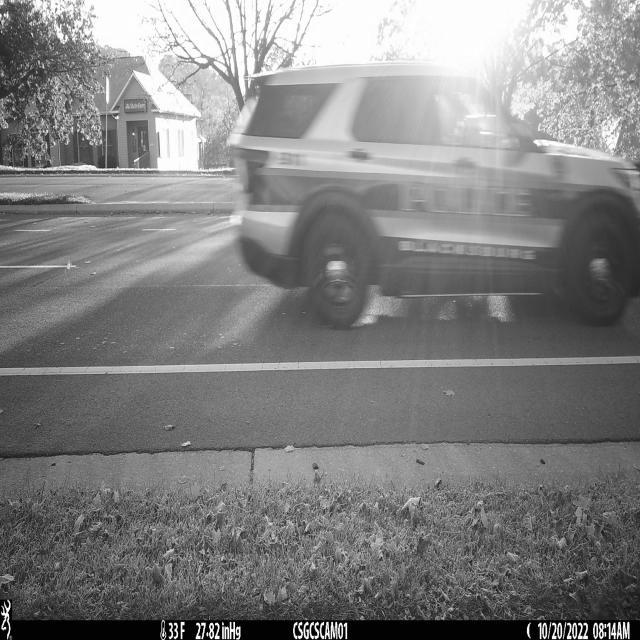SUV: (231, 62, 640, 327)
